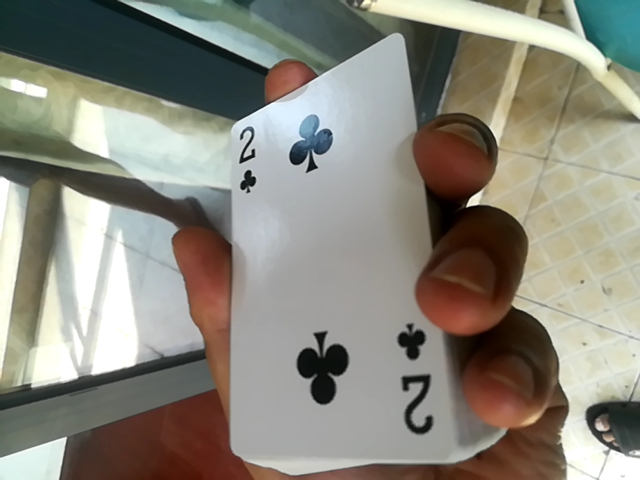mh 2: (201, 43, 455, 464)
